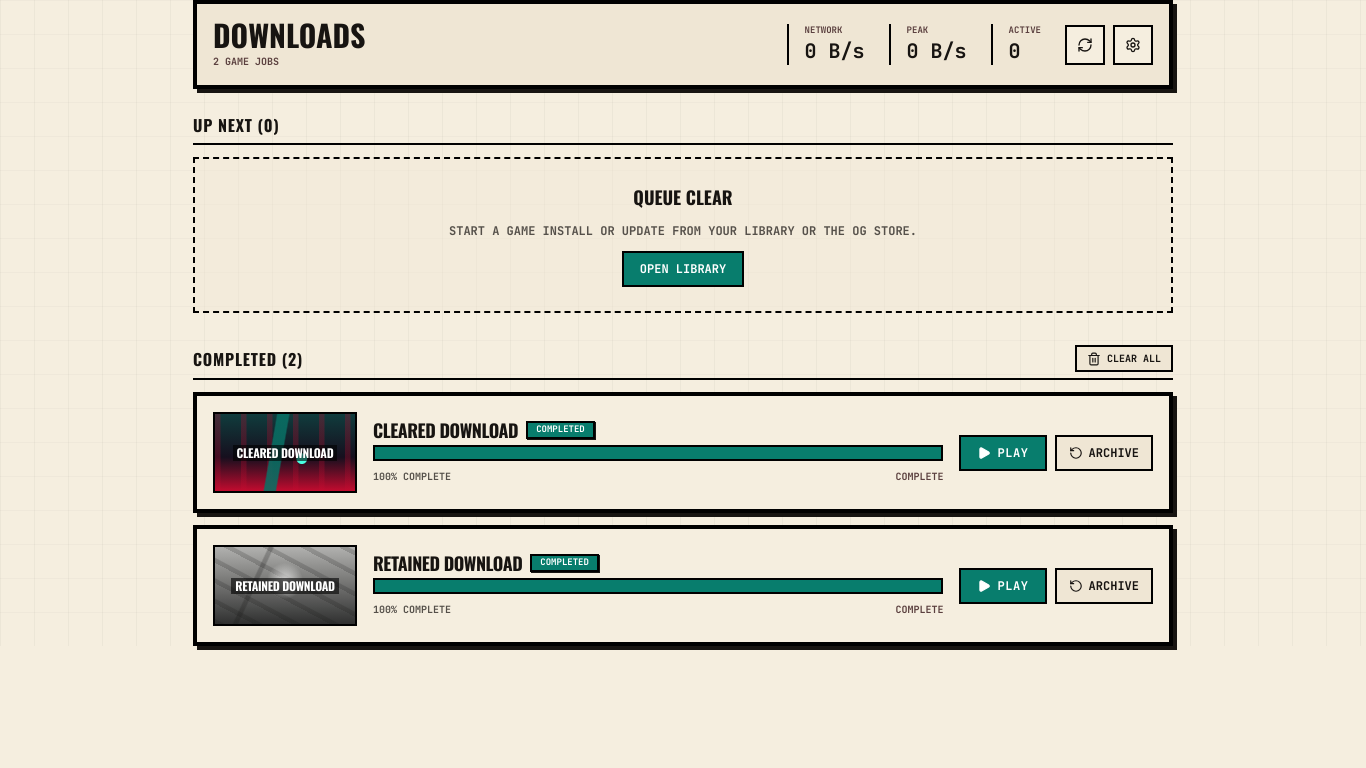
Test: DownloadsPage › reports partial clear-all failures and keeps failed items visible
Click the button "Clear All".
click(1124, 358)  # box [1075, 345, 1173, 372]
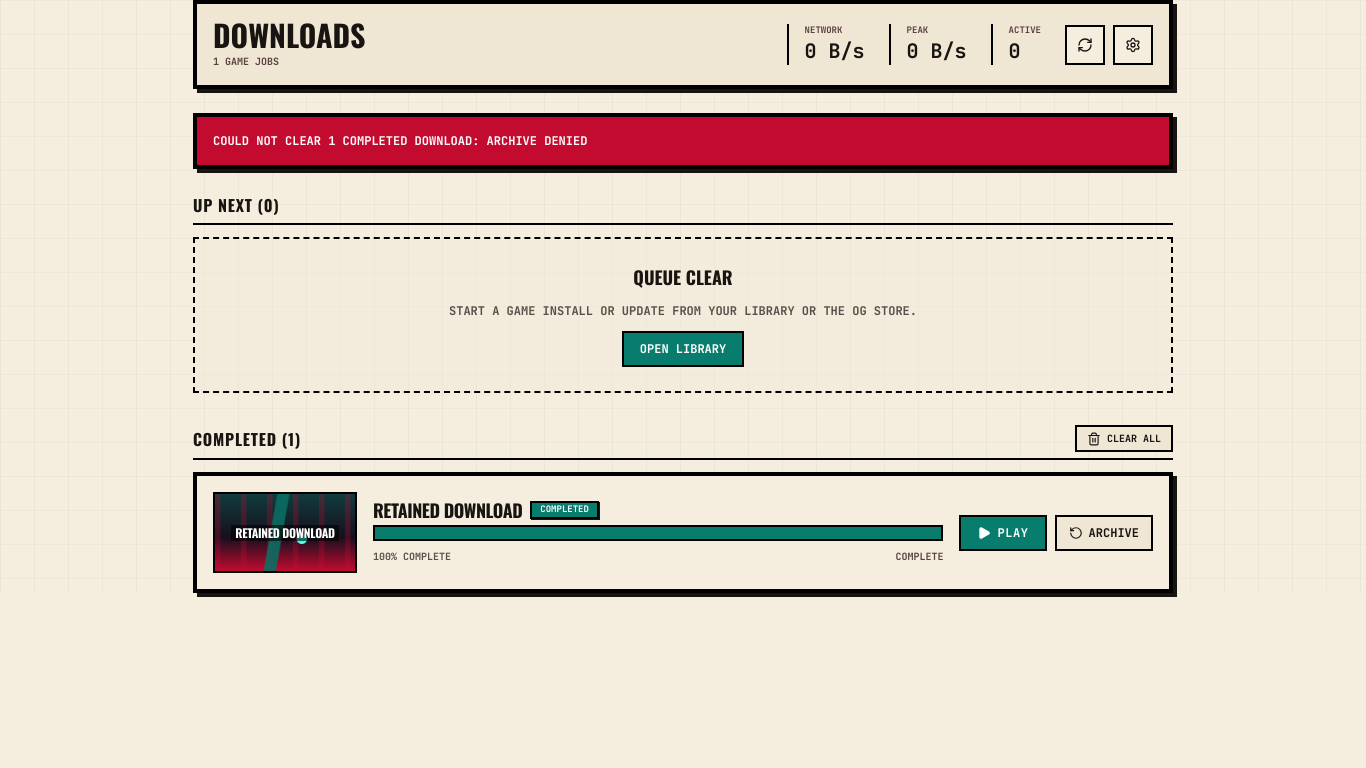
Expected: the heading "Retained Download" is shown, [373, 501, 522, 519]
Result: the message reads "Could not clear 1 completed download: Archive denied" at [213, 133, 587, 149]
Result: the text "Cleared Download" is gone
